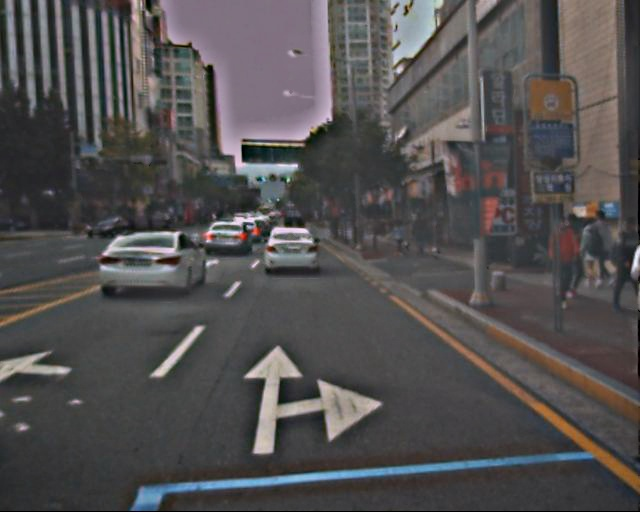person: (580, 213, 638, 308), (541, 213, 581, 311), (411, 211, 430, 257), (391, 219, 406, 256)
